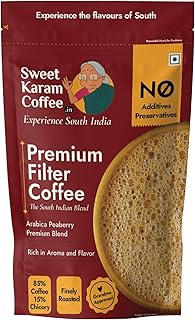Coffee: (1, 2, 190, 320)
